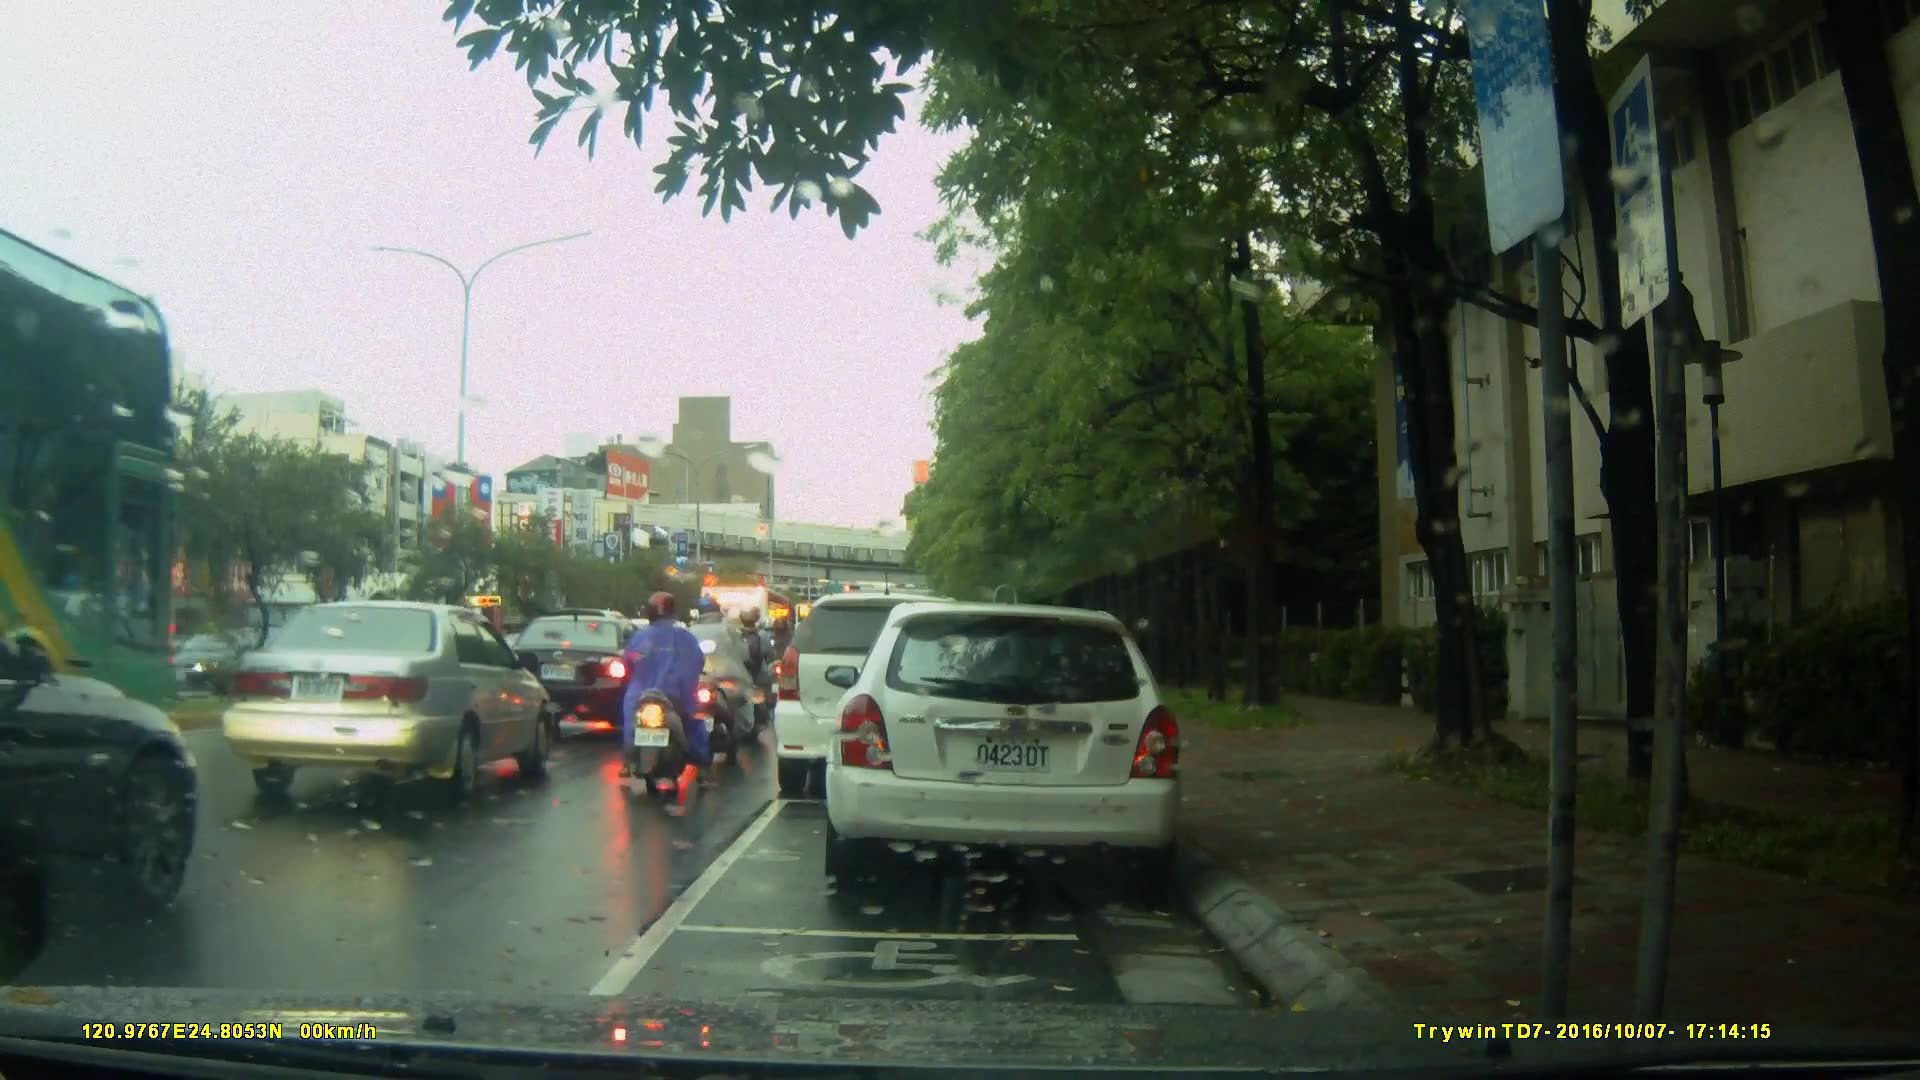rider: (608, 589, 715, 798), (691, 592, 764, 762), (725, 605, 773, 721)
vehicle: (831, 592, 1196, 897), (1, 218, 186, 764), (213, 598, 562, 805), (769, 592, 999, 799), (492, 611, 676, 739), (690, 581, 806, 706), (158, 630, 272, 695)
